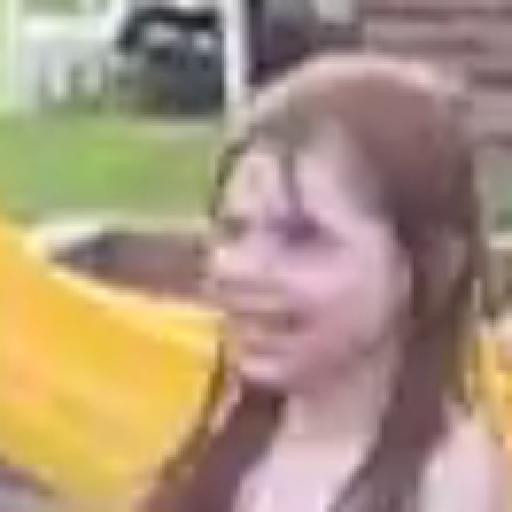Autism: (188, 48, 505, 452)
